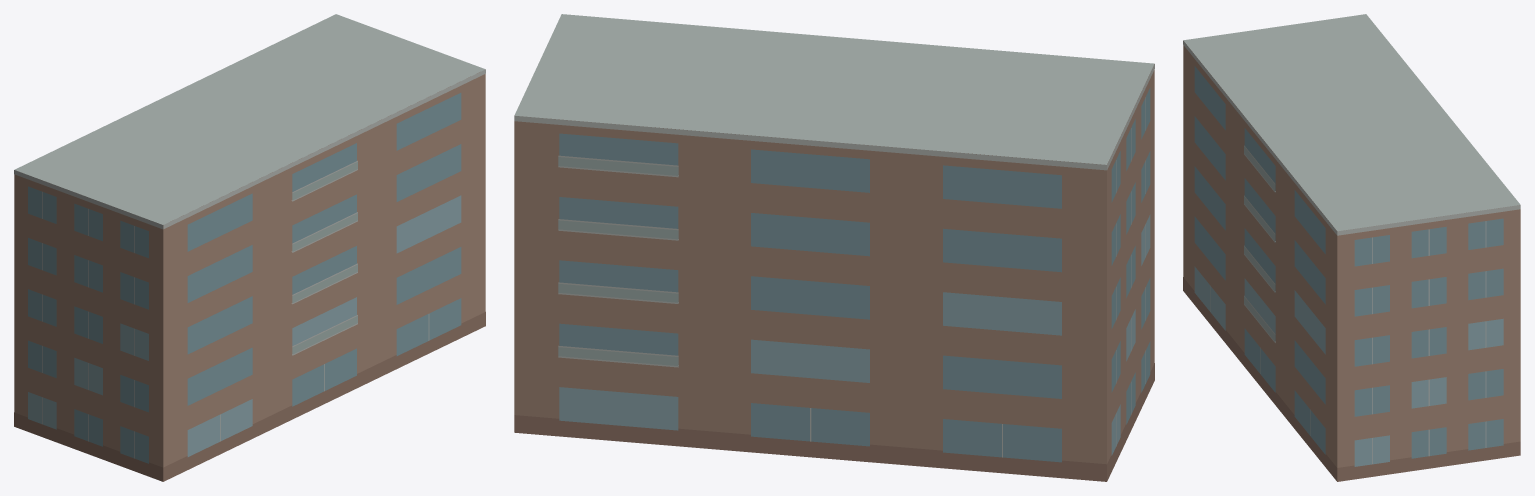
Rendered from survey-upis-32709108.glb.
3 views of the same model, side by side, from view 1: azimuth 30°, elevation 25°; view 2: azimuth 150°, elevation 25°; view 3: azimuth 270°, elevation 25° (orthographic). The views are drawn at different scales.
Visible parts, largest first — view 1: survey-upis-32709108.tmp; view 2: survey-upis-32709108.tmp; view 3: survey-upis-32709108.tmp.
Boxes of the visible parts, <box> form: survey-upis-32709108.tmp: <box>14,14,485,481</box>; survey-upis-32709108.tmp: <box>514,14,1154,481</box>; survey-upis-32709108.tmp: <box>1183,14,1520,481</box>.
Size of the model in its own units: 26.34 by 14.15 by 17.29.
